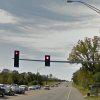Tree: (69, 28, 100, 89)
